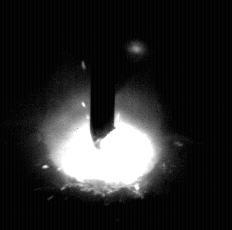arame: (91, 0, 116, 149)
poca: (44, 0, 170, 230)
